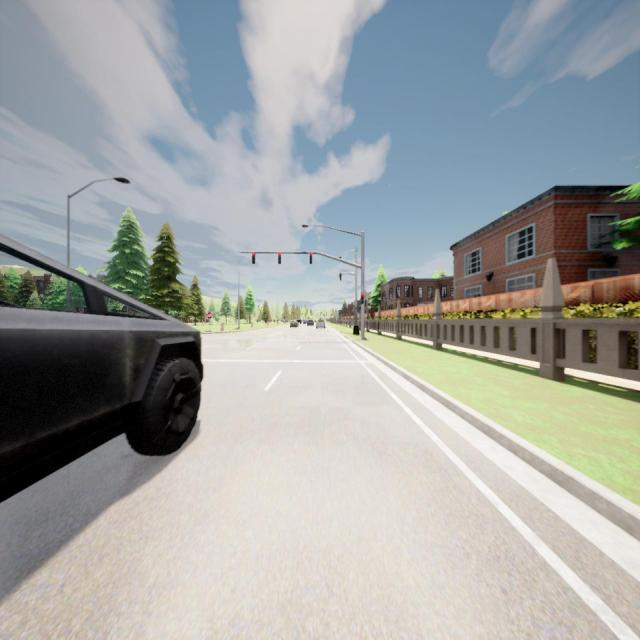Traffic_Signs: (206, 312, 212, 320)
Vehicle: (0, 235, 202, 500), (316, 318, 326, 331), (290, 320, 298, 330), (308, 318, 314, 329), (296, 318, 302, 325), (302, 318, 307, 326)
traffic_light: (252, 252, 255, 264), (278, 252, 281, 264), (361, 292, 364, 303), (339, 273, 342, 281), (310, 253, 312, 264)
